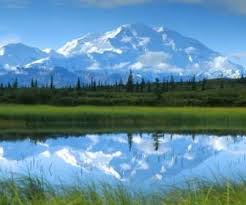field: (7, 87, 244, 131)
lake: (8, 129, 241, 192)
mountain: (12, 28, 240, 85)
